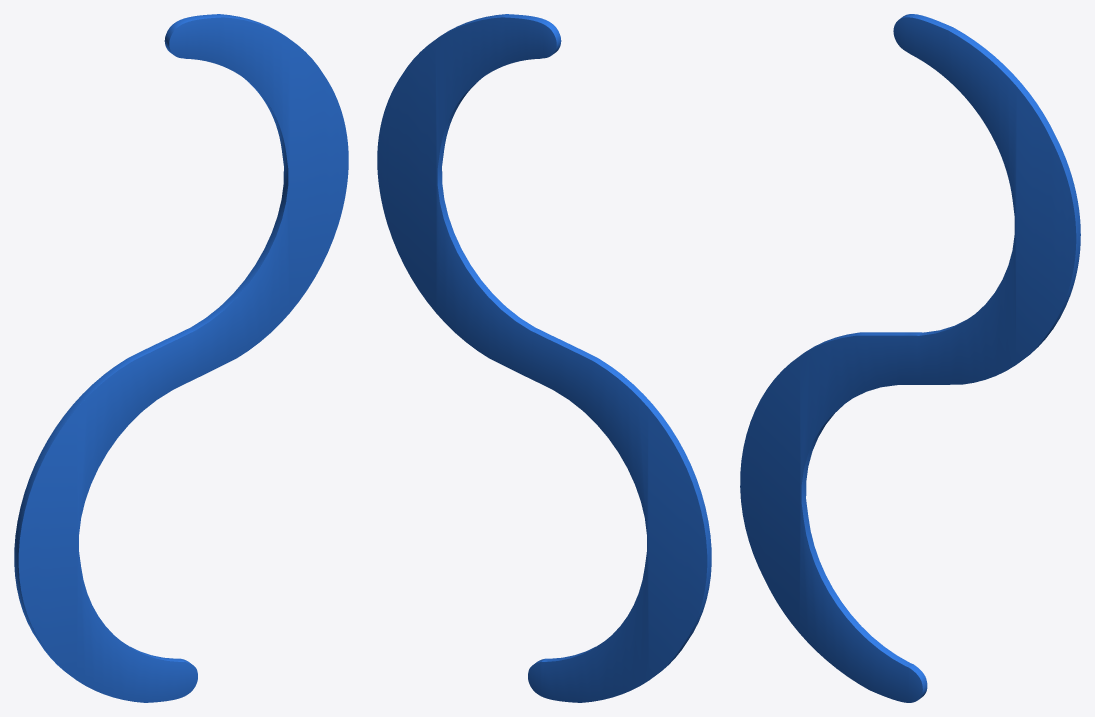
File: buugeng.glb
The picture shows the model from 3 angles, left to right: view 1: azimuth 30°, elevation 25°; view 2: azimuth 150°, elevation 25°; view 3: azimuth 330°, elevation 25°; orthographic projection.
Visible parts, largest first — view 1: TKA_Buugeng_Body; view 2: TKA_Buugeng_Body; view 3: TKA_Buugeng_Body.
Boxes of the visible parts, x1,y1,x2,y2 form: TKA_Buugeng_Body: [14, 14, 348, 702]; TKA_Buugeng_Body: [377, 14, 711, 702]; TKA_Buugeng_Body: [740, 14, 1080, 702].
Size of the model in its own units: 0.425 by 0.83 by 0.01.
